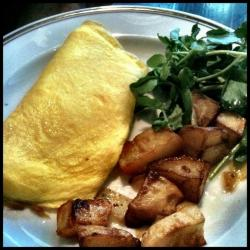fries: (71, 99, 235, 250)
omelette: (5, 24, 136, 207)
salad: (133, 20, 250, 138)
